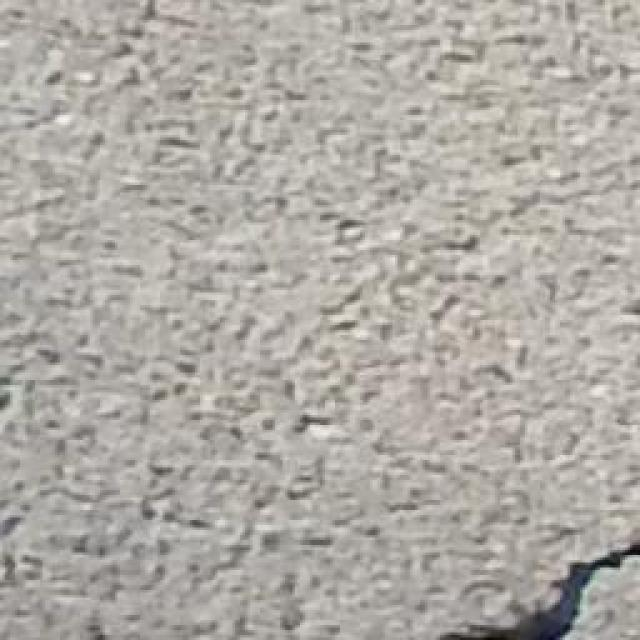concrete-crack: (426, 537, 640, 640)
